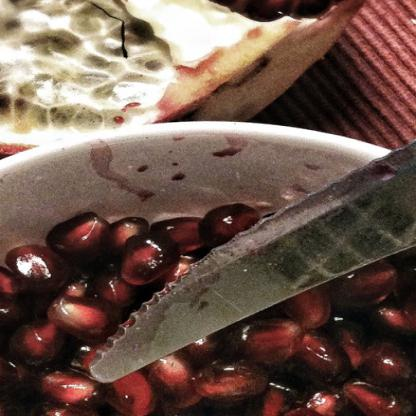knife: (69, 31, 415, 390)
